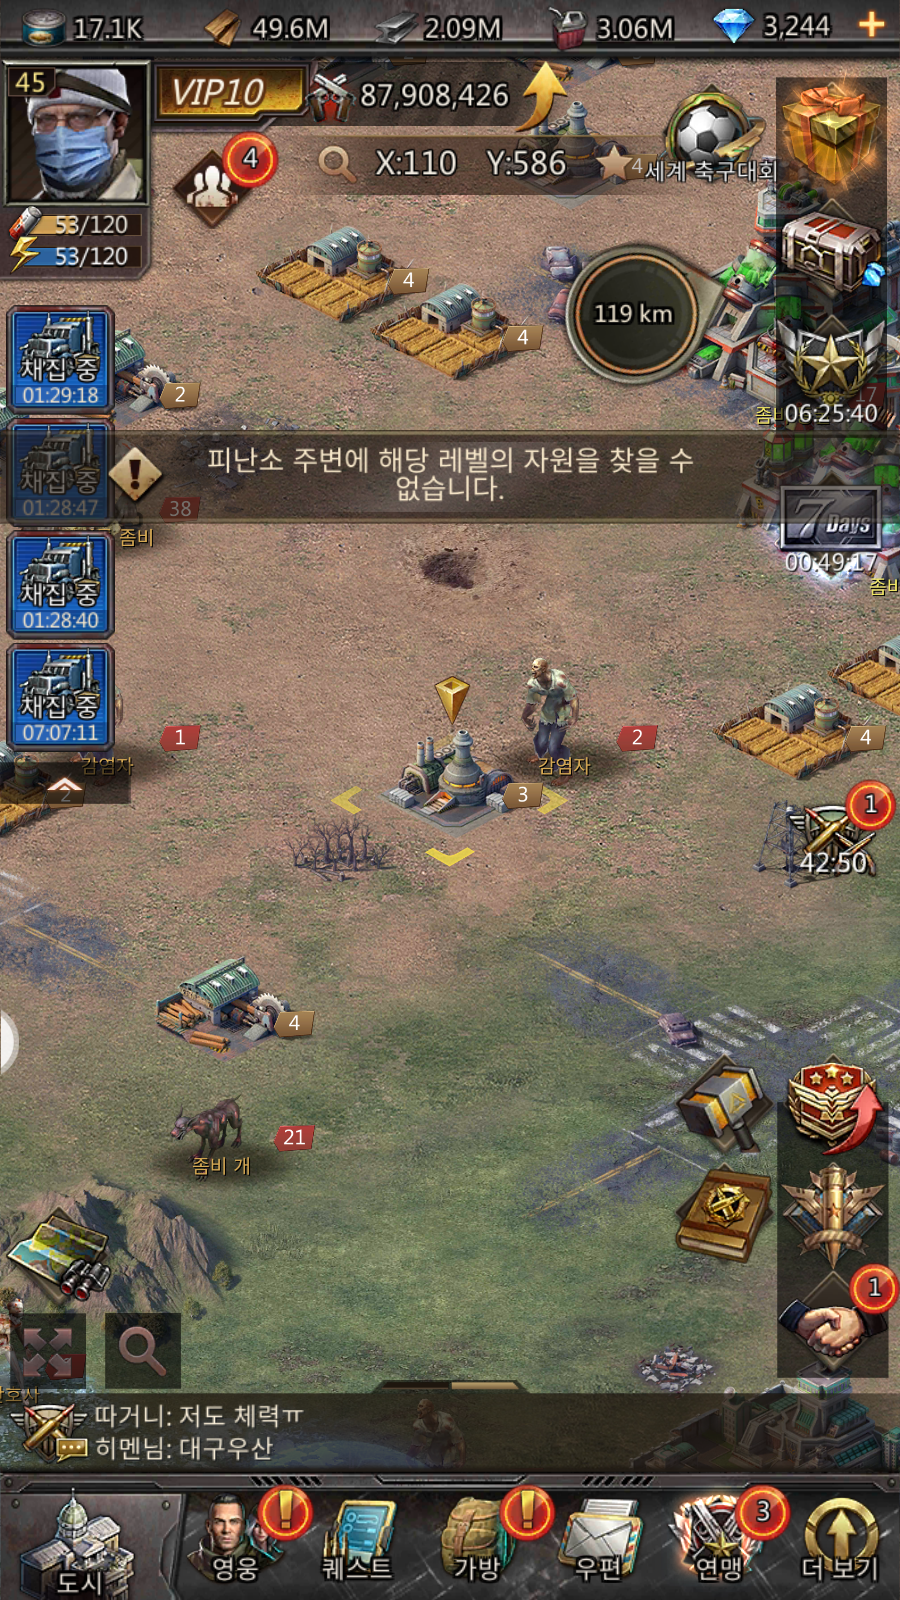city: (13, 1493, 177, 1600)
empty_steel: (318, 669, 587, 880)
not_found_rss: (105, 431, 713, 531)
open_panel: (96, 1304, 198, 1395)
troops_cnt_4: (167, 125, 285, 238)
